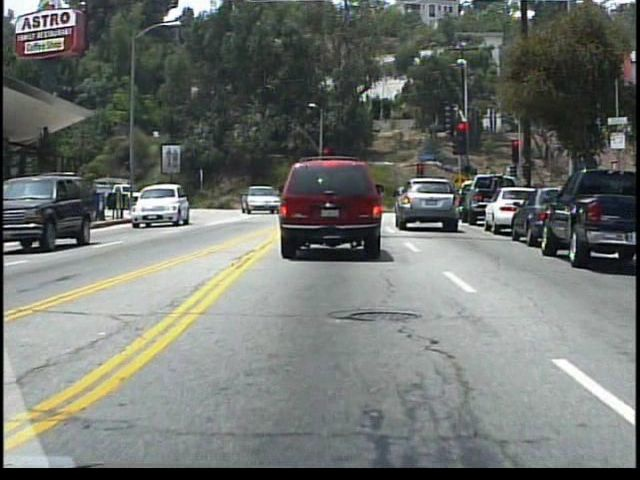person: (282, 186, 299, 212)
